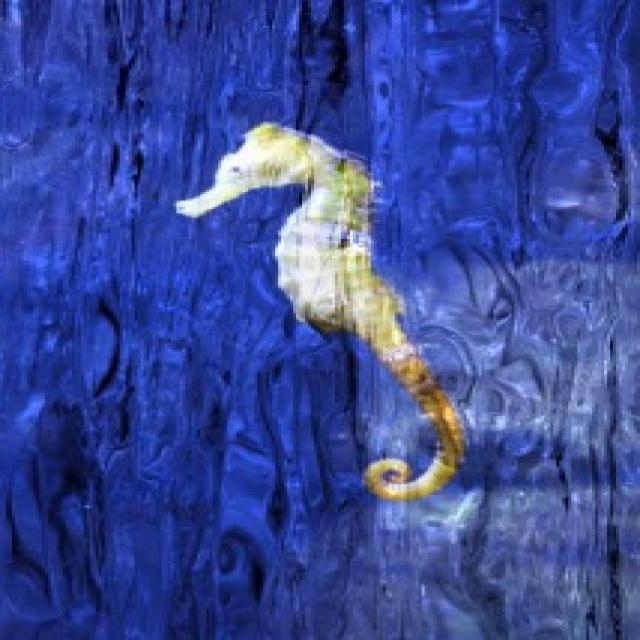Seahorse: (167, 116, 482, 500)
